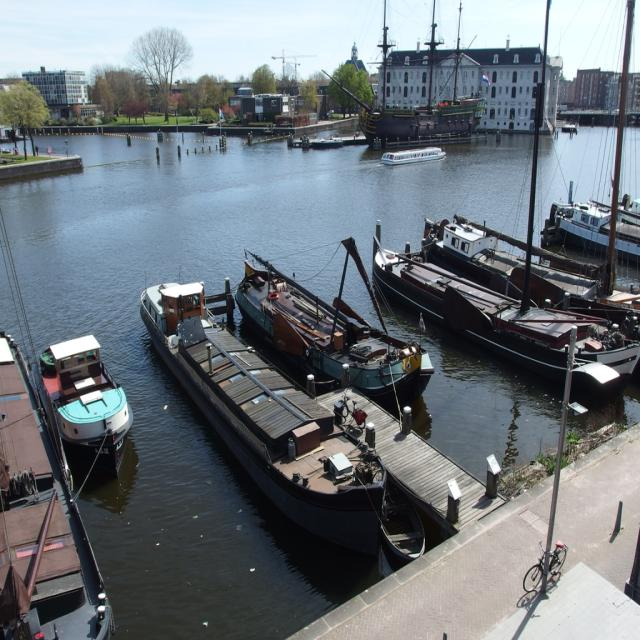Boat: (136, 273, 389, 546), (0, 210, 115, 640), (372, 233, 640, 380), (231, 236, 434, 404), (420, 210, 640, 336), (321, 0, 482, 142), (33, 332, 134, 477), (546, 198, 640, 259), (375, 493, 425, 567), (381, 147, 446, 169)
